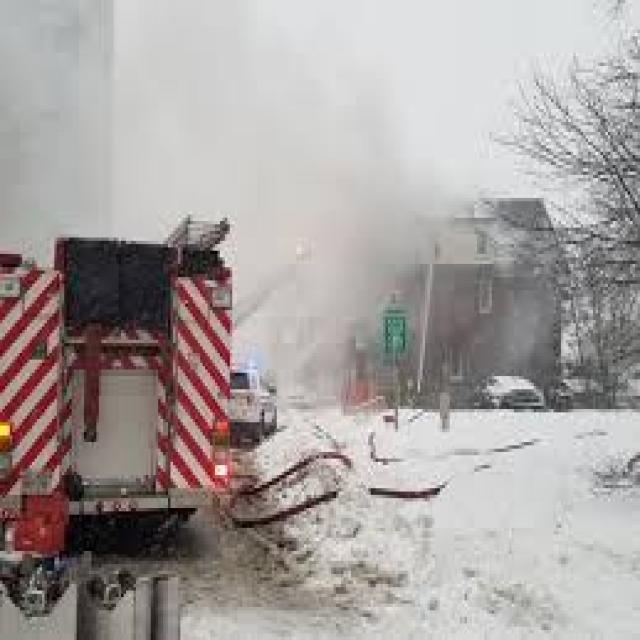smoke: (0, 0, 460, 416)
